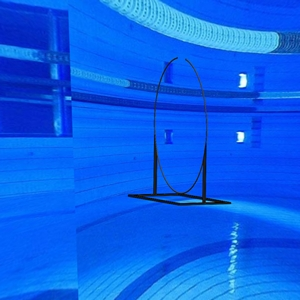circle: (127, 56, 233, 206)
